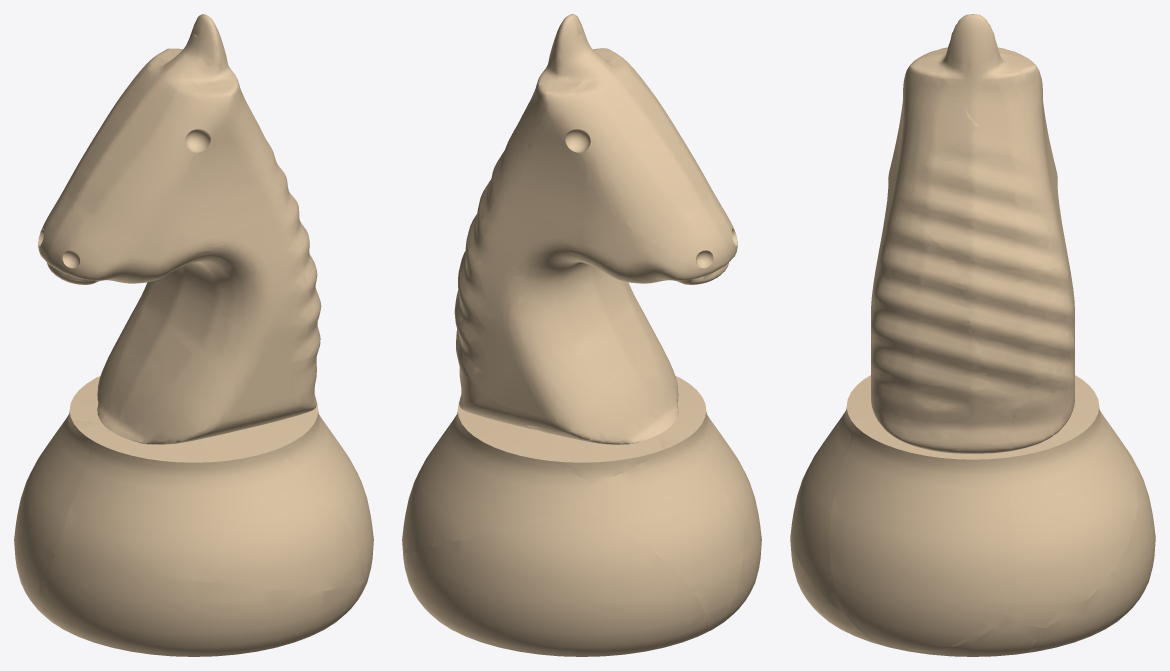
The model's file is knight.glb.
The picture shows the model from 3 angles, left to right: view 1: azimuth 30°, elevation 25°; view 2: azimuth 150°, elevation 25°; view 3: azimuth 270°, elevation 25°; orthographic projection.
Parts seen in each view (by area): view 1: chunk-03.008, chunk-00.008, chunk-12.006, chunk-08.008, chunk-14.004, chunk-07.008, chunk-05.008, chunk-02.008, chunk-13.006, chunk-06.008, chunk-15.004; view 2: chunk-01.008, chunk-13.006, chunk-06.008, chunk-04.008, chunk-02.008, chunk-11.008, chunk-07.008, chunk-03.008, chunk-09.008, chunk-10.008, chunk-14.004, chunk-15.004 (+2 smaller); view 3: chunk-05.008, chunk-04.008, chunk-08.008, chunk-10.008, chunk-09.008, chunk-03.008, chunk-01.008, chunk-14.004, chunk-15.004, chunk-12.006, chunk-02.008, chunk-11.008 (+2 smaller).
Boxes of the visible parts, box(x1,y1,x2,y2) form: chunk-03.008: box(62, 393, 365, 590); chunk-00.008: box(38, 548, 365, 656); chunk-12.006: box(54, 143, 273, 280); chunk-08.008: box(192, 192, 321, 369); chunk-14.004: box(134, 54, 272, 189); chunk-07.008: box(62, 262, 250, 427); chunk-05.008: box(227, 352, 373, 585); chunk-02.008: box(17, 414, 116, 615); chunk-13.006: box(38, 48, 169, 263); chunk-06.008: box(69, 282, 148, 426); chunk-15.004: box(164, 14, 236, 77); chunk-01.008: box(403, 506, 707, 656); chunk-13.006: box(538, 88, 732, 267); chunk-06.008: box(456, 308, 663, 485); chunk-04.008: box(402, 368, 592, 552); chunk-02.008: box(577, 423, 743, 633); chunk-11.008: box(501, 137, 732, 284); chunk-07.008: box(512, 262, 665, 423); chunk-03.008: box(657, 338, 753, 525); chunk-09.008: box(454, 241, 533, 343); chunk-10.008: box(466, 144, 521, 276); chunk-14.004: box(569, 47, 679, 133); chunk-15.004: box(530, 14, 590, 100); chunk-05.008: box(829, 363, 1017, 650); chunk-04.008: box(1007, 385, 1137, 628); chunk-08.008: box(871, 185, 991, 389); chunk-10.008: box(896, 155, 1067, 269); chunk-09.008: box(956, 256, 1074, 396); chunk-03.008: box(792, 375, 873, 614); chunk-01.008: box(1027, 438, 1155, 652); chunk-14.004: box(898, 47, 1015, 171); chunk-15.004: box(940, 14, 1034, 124); chunk-12.006: box(888, 80, 1044, 190); chunk-02.008: box(894, 618, 1044, 656); chunk-11.008: box(1009, 121, 1064, 235).
Bounding box in the file's own units: 0.68 × 1.19 × 0.68.
